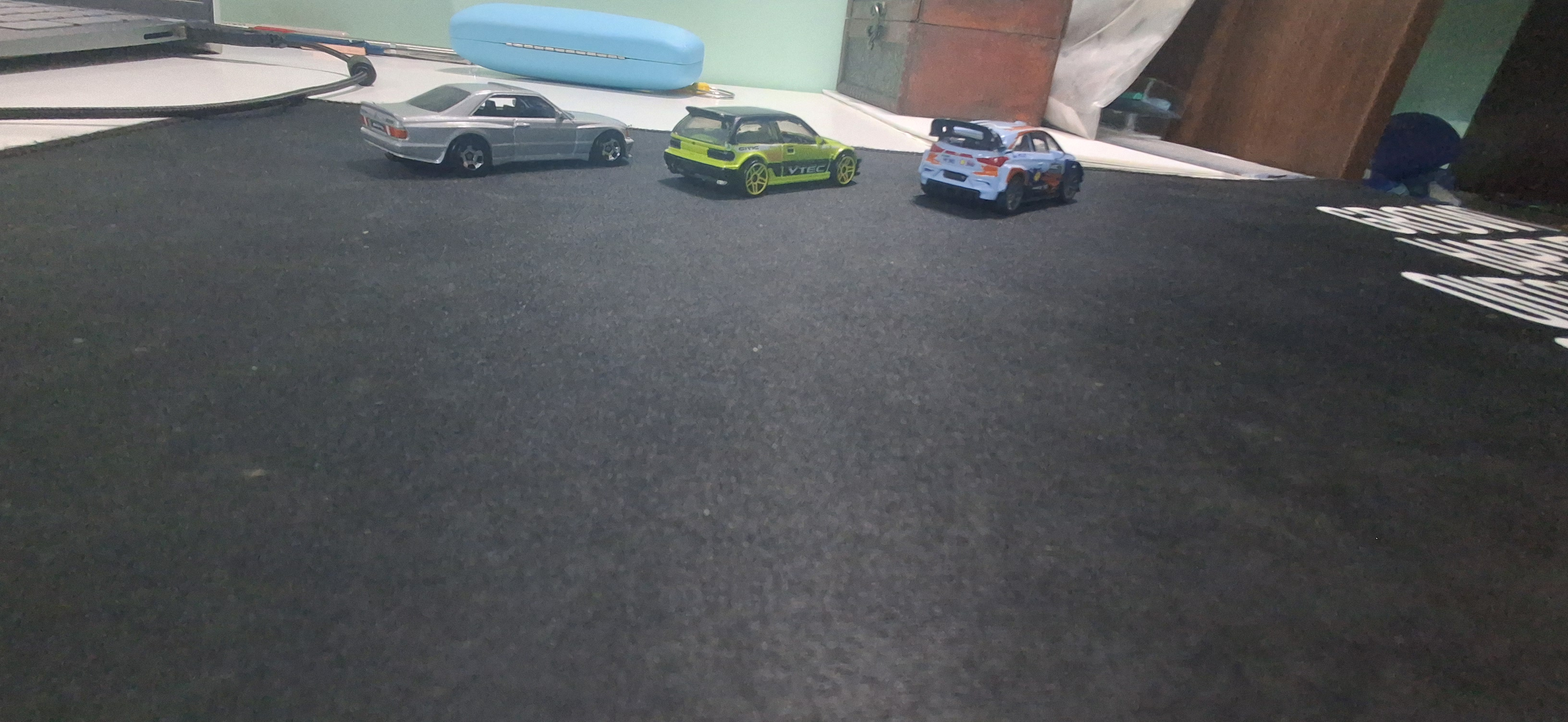Honda_Civic: (656, 84, 873, 216)
Hyundai_I20_WRC: (883, 105, 1131, 241)
Mercedes_Benz_560_SEC_AMG: (335, 47, 639, 207)
